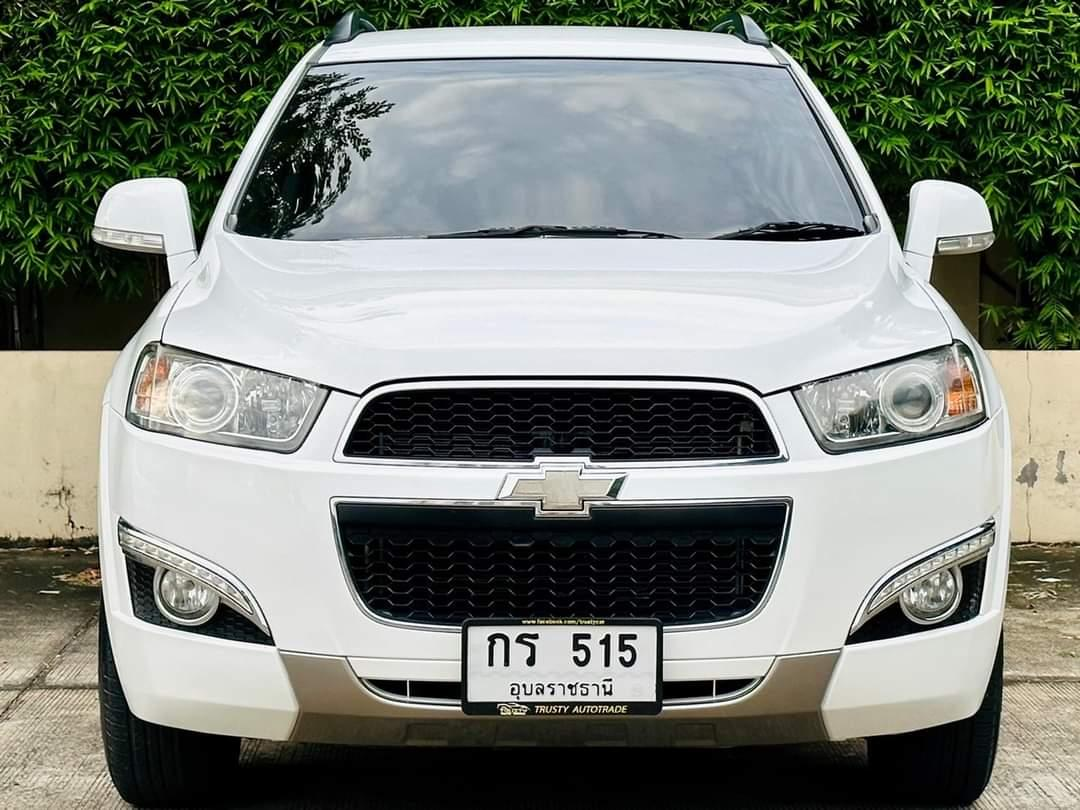license-plate: (460, 618, 665, 720)
